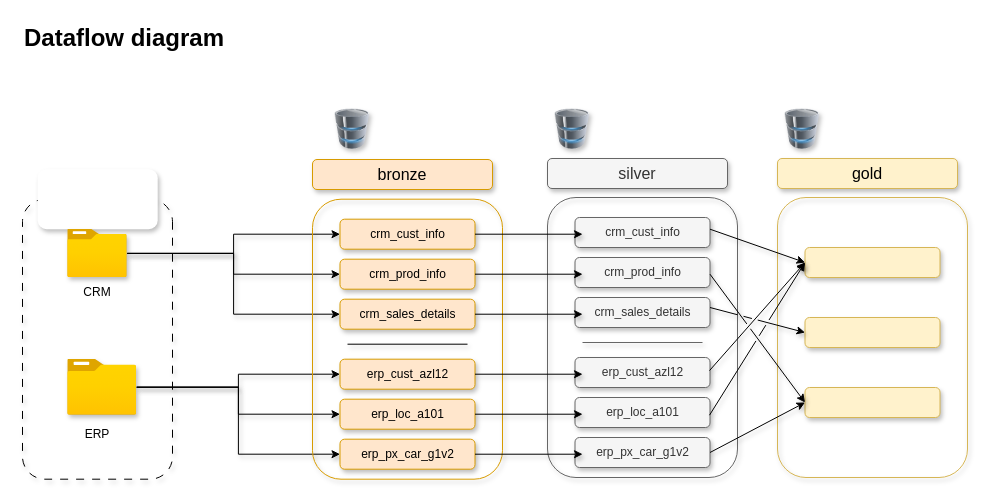
The diagram is 991 pixels wide and 503 high, and some of its shapes have lost their labels. Each missing label, with the centre of its shape:
dim_customers: the point at 873,263
dim_products: the point at 873,403
fact_sales: the point at 873,333
sources: the point at 98,200
